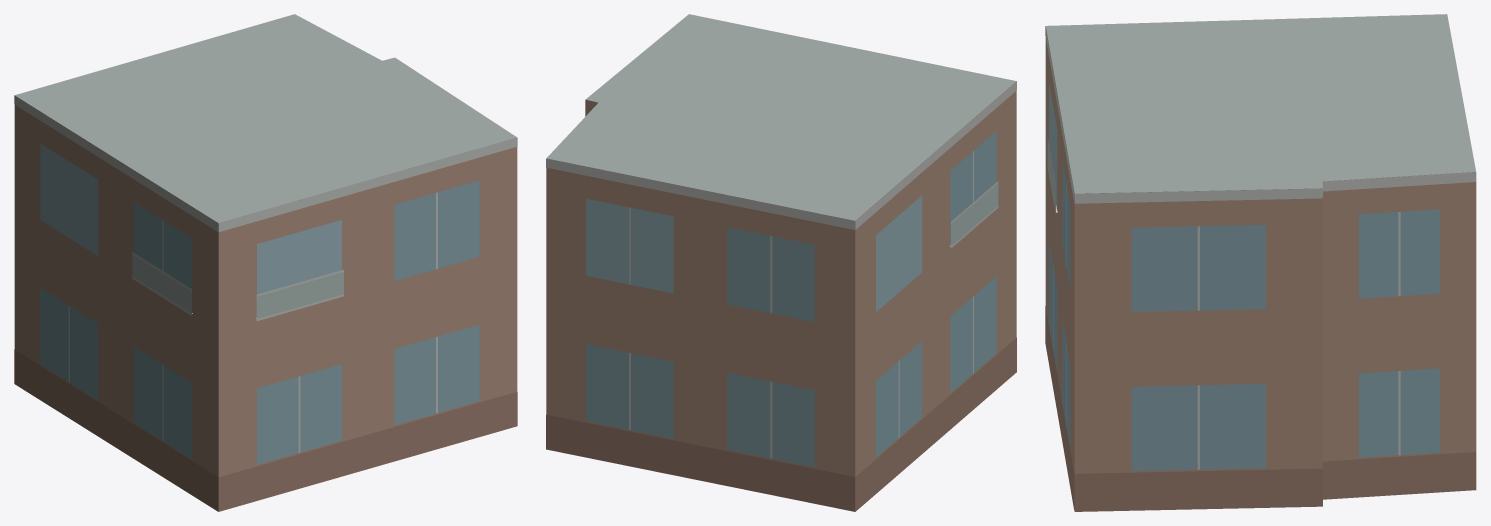
The model's file is survey-upis-32568936.glb.
3 renders of one model, left to right at view 1: azimuth 30°, elevation 25°; view 2: azimuth 150°, elevation 25°; view 3: azimuth 270°, elevation 25°, orthographic. The views are drawn at different scales.
Visible parts, largest first — view 1: survey-upis-32568936.tmp; view 2: survey-upis-32568936.tmp; view 3: survey-upis-32568936.tmp.
Part boxes in pixels (x1=…): survey-upis-32568936.tmp: x1=14, y1=14, x2=517, y2=511; survey-upis-32568936.tmp: x1=546, y1=14, x2=1016, y2=511; survey-upis-32568936.tmp: x1=1045, y1=14, x2=1476, y2=511.
Bounding box in the file's own units: 9.33 × 7.7 × 9.45.
